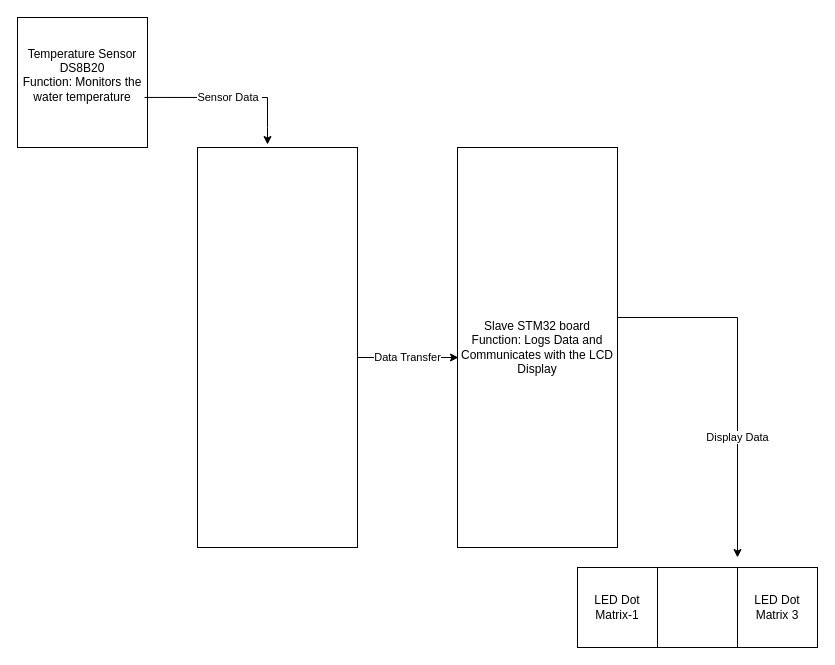
Some shapes in this 835 by 665 pixel diagram are drawn without their labels. Here are the shapes that lost their labels. From the top down, the box of each, then its label:
(196, 146, 358, 548): Master SM32 board Function: Processes data from sensor and calculates averages.
(656, 566, 738, 648): LED Dot Matrix 2
